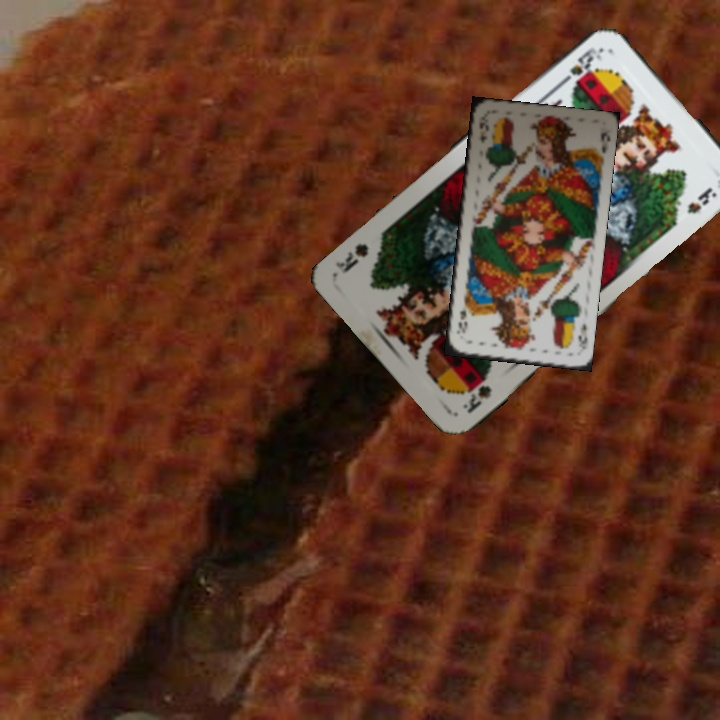EK: (574, 319, 590, 354), (476, 117, 492, 145)
SK: (554, 43, 604, 89), (458, 372, 494, 417)
